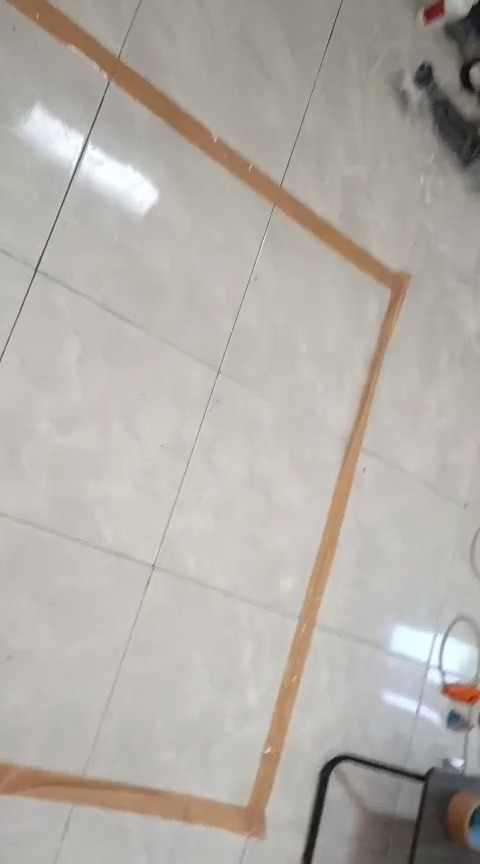floor marking: (0, 0, 409, 837)
